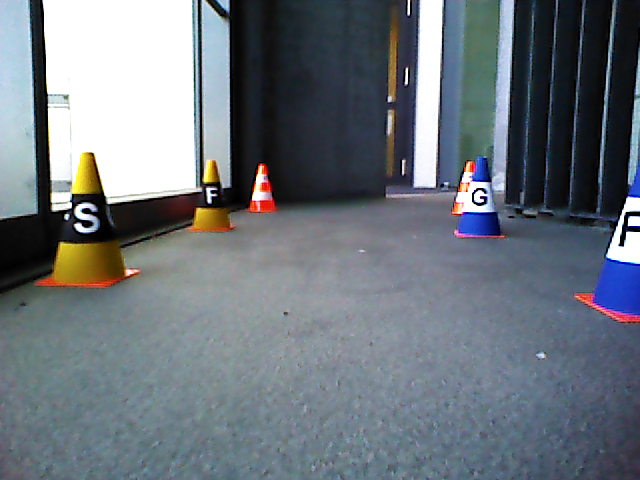bluecone: (597, 149, 640, 312), (459, 157, 498, 233)
orangeconesmall: (249, 163, 277, 212)
yellowcone: (53, 154, 124, 280), (194, 160, 229, 228)
